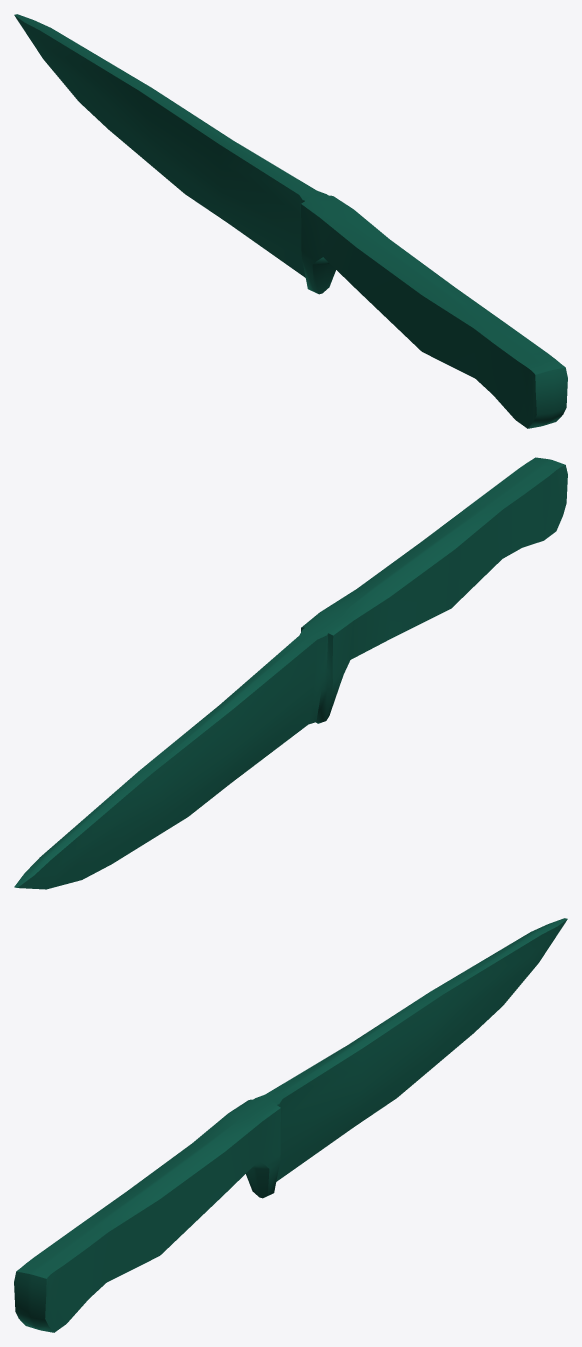
The picture shows the model from 3 angles, top to bottom: view 1: azimuth 30°, elevation 25°; view 2: azimuth 150°, elevation 25°; view 3: azimuth 330°, elevation 25°; orthographic projection.
Parts seen in each view (by area): view 1: polySurface1_lambert1_0; view 2: polySurface1_lambert1_0; view 3: polySurface1_lambert1_0.
Part boxes in pixels (x1,y1,x2,y2): polySurface1_lambert1_0: (14, 14, 567, 428); polySurface1_lambert1_0: (14, 457, 567, 889); polySurface1_lambert1_0: (14, 918, 567, 1332).
Size of the model in its own units: 0.0365 by 0.0972 by 1.
